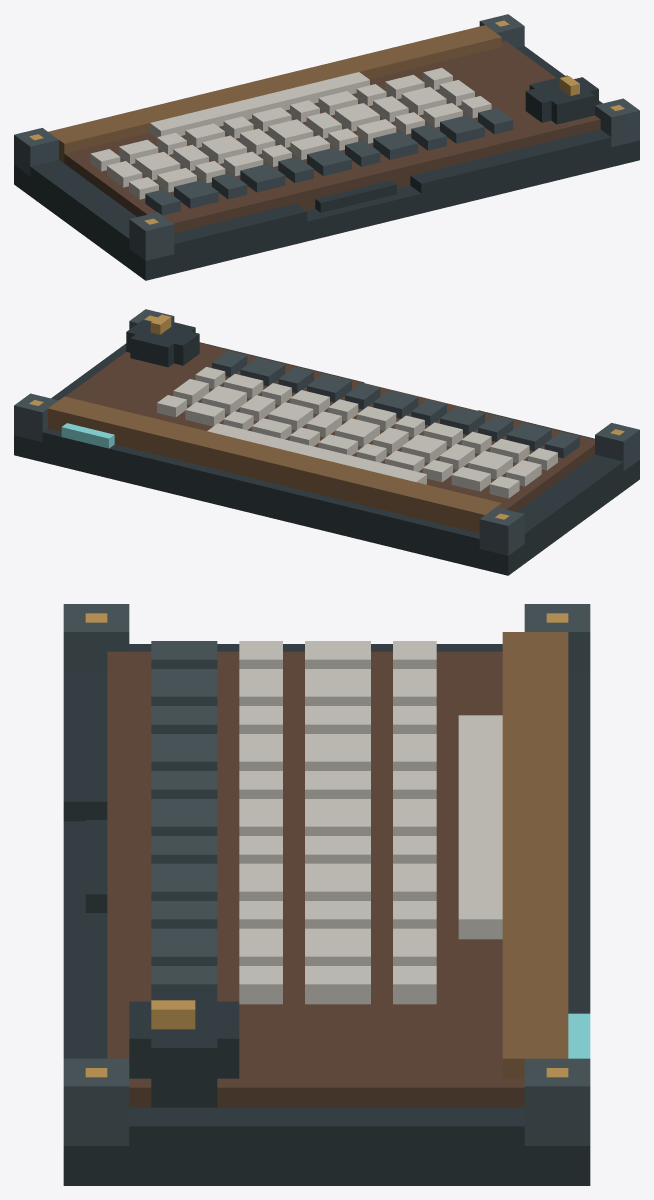
3 views of the same model, one above another, from view 1: azimuth 30°, elevation 25°; view 2: azimuth 150°, elevation 25°; view 3: azimuth 270°, elevation 25° (orthographic). The views are drawn at different scales.
Visible parts, largest first — view 1: 桌面输入设备托板; view 2: 桌面输入设备托板; view 3: 桌面输入设备托板.
Boxes of the visible parts, x1,y1,x2,y2 form: 桌面输入设备托板: [14, 14, 639, 280]; 桌面输入设备托板: [14, 309, 639, 575]; 桌面输入设备托板: [63, 604, 590, 1185].
Bounding box in the file's own units: 0.52 × 0.07 × 0.24.
Materials: 8 (8 with a texture image).
